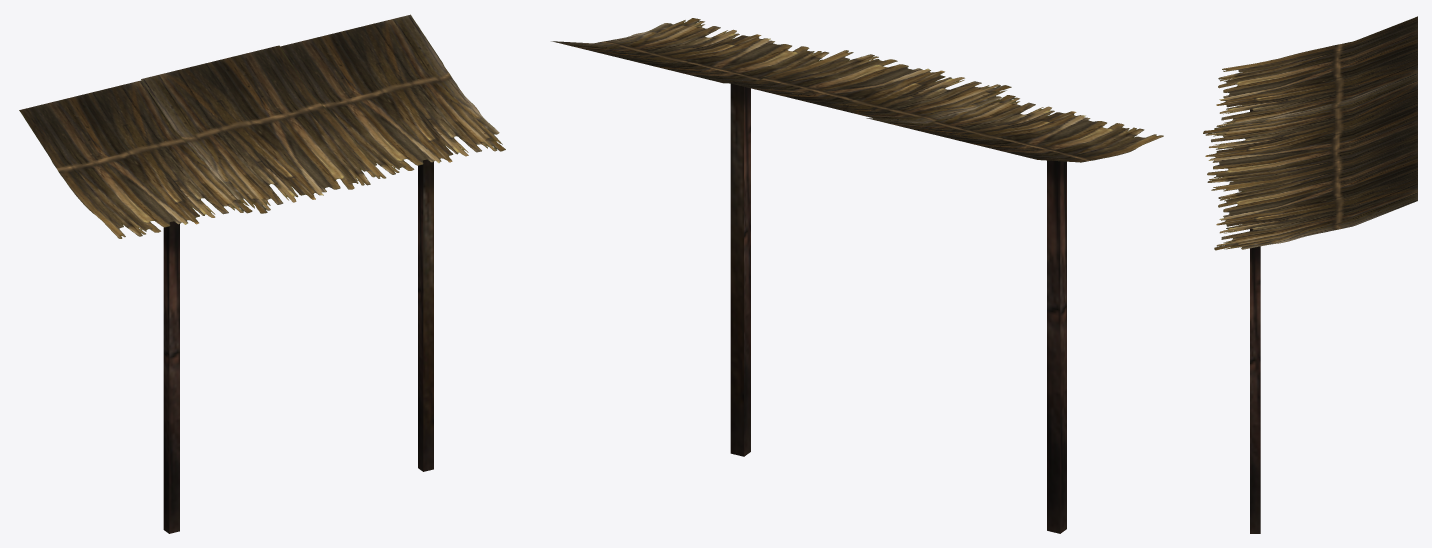
3 renders of one model, left to right at view 1: azimuth 30°, elevation 25°; view 2: azimuth 150°, elevation 25°; view 3: azimuth 270°, elevation 25°, orthographic. The views are drawn at different scales.
Parts seen in each view (by area): view 1: wj08; view 2: wj08; view 3: wj08.
Part boxes in pixels (box(x1,y1,x2,y2)): wj08: box(19, 14, 505, 533); wj08: box(551, 18, 1163, 533); wj08: box(1203, 16, 1417, 533).
Size of the model in its own units: 734 by 662 by 354.
